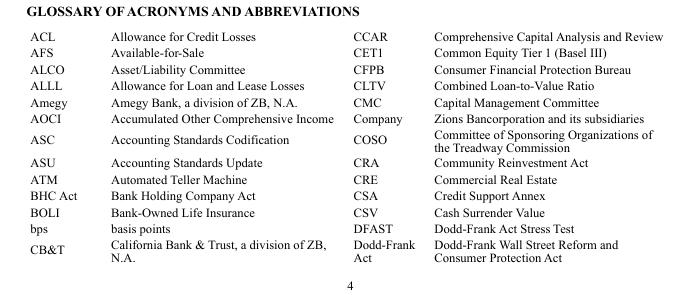table: (29, 28, 662, 263)
table column: (93, 28, 342, 263), (423, 28, 662, 263), (342, 28, 423, 263), (29, 28, 93, 263)
table column header: (29, 28, 662, 43)
table row: (29, 126, 662, 154), (29, 235, 662, 263), (29, 43, 662, 60), (29, 76, 662, 93), (29, 109, 662, 126), (29, 186, 662, 203), (29, 60, 662, 76), (29, 93, 662, 109), (29, 154, 662, 170), (29, 170, 662, 186), (29, 203, 662, 219), (29, 219, 662, 235), (29, 28, 662, 43)
